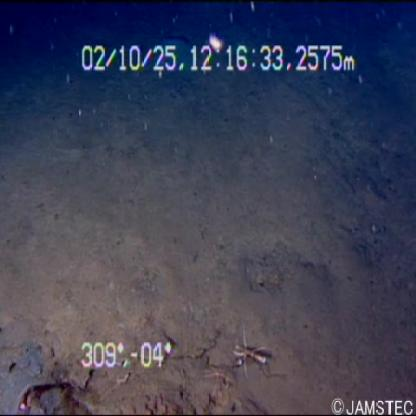Rác: (10, 374, 89, 416)
